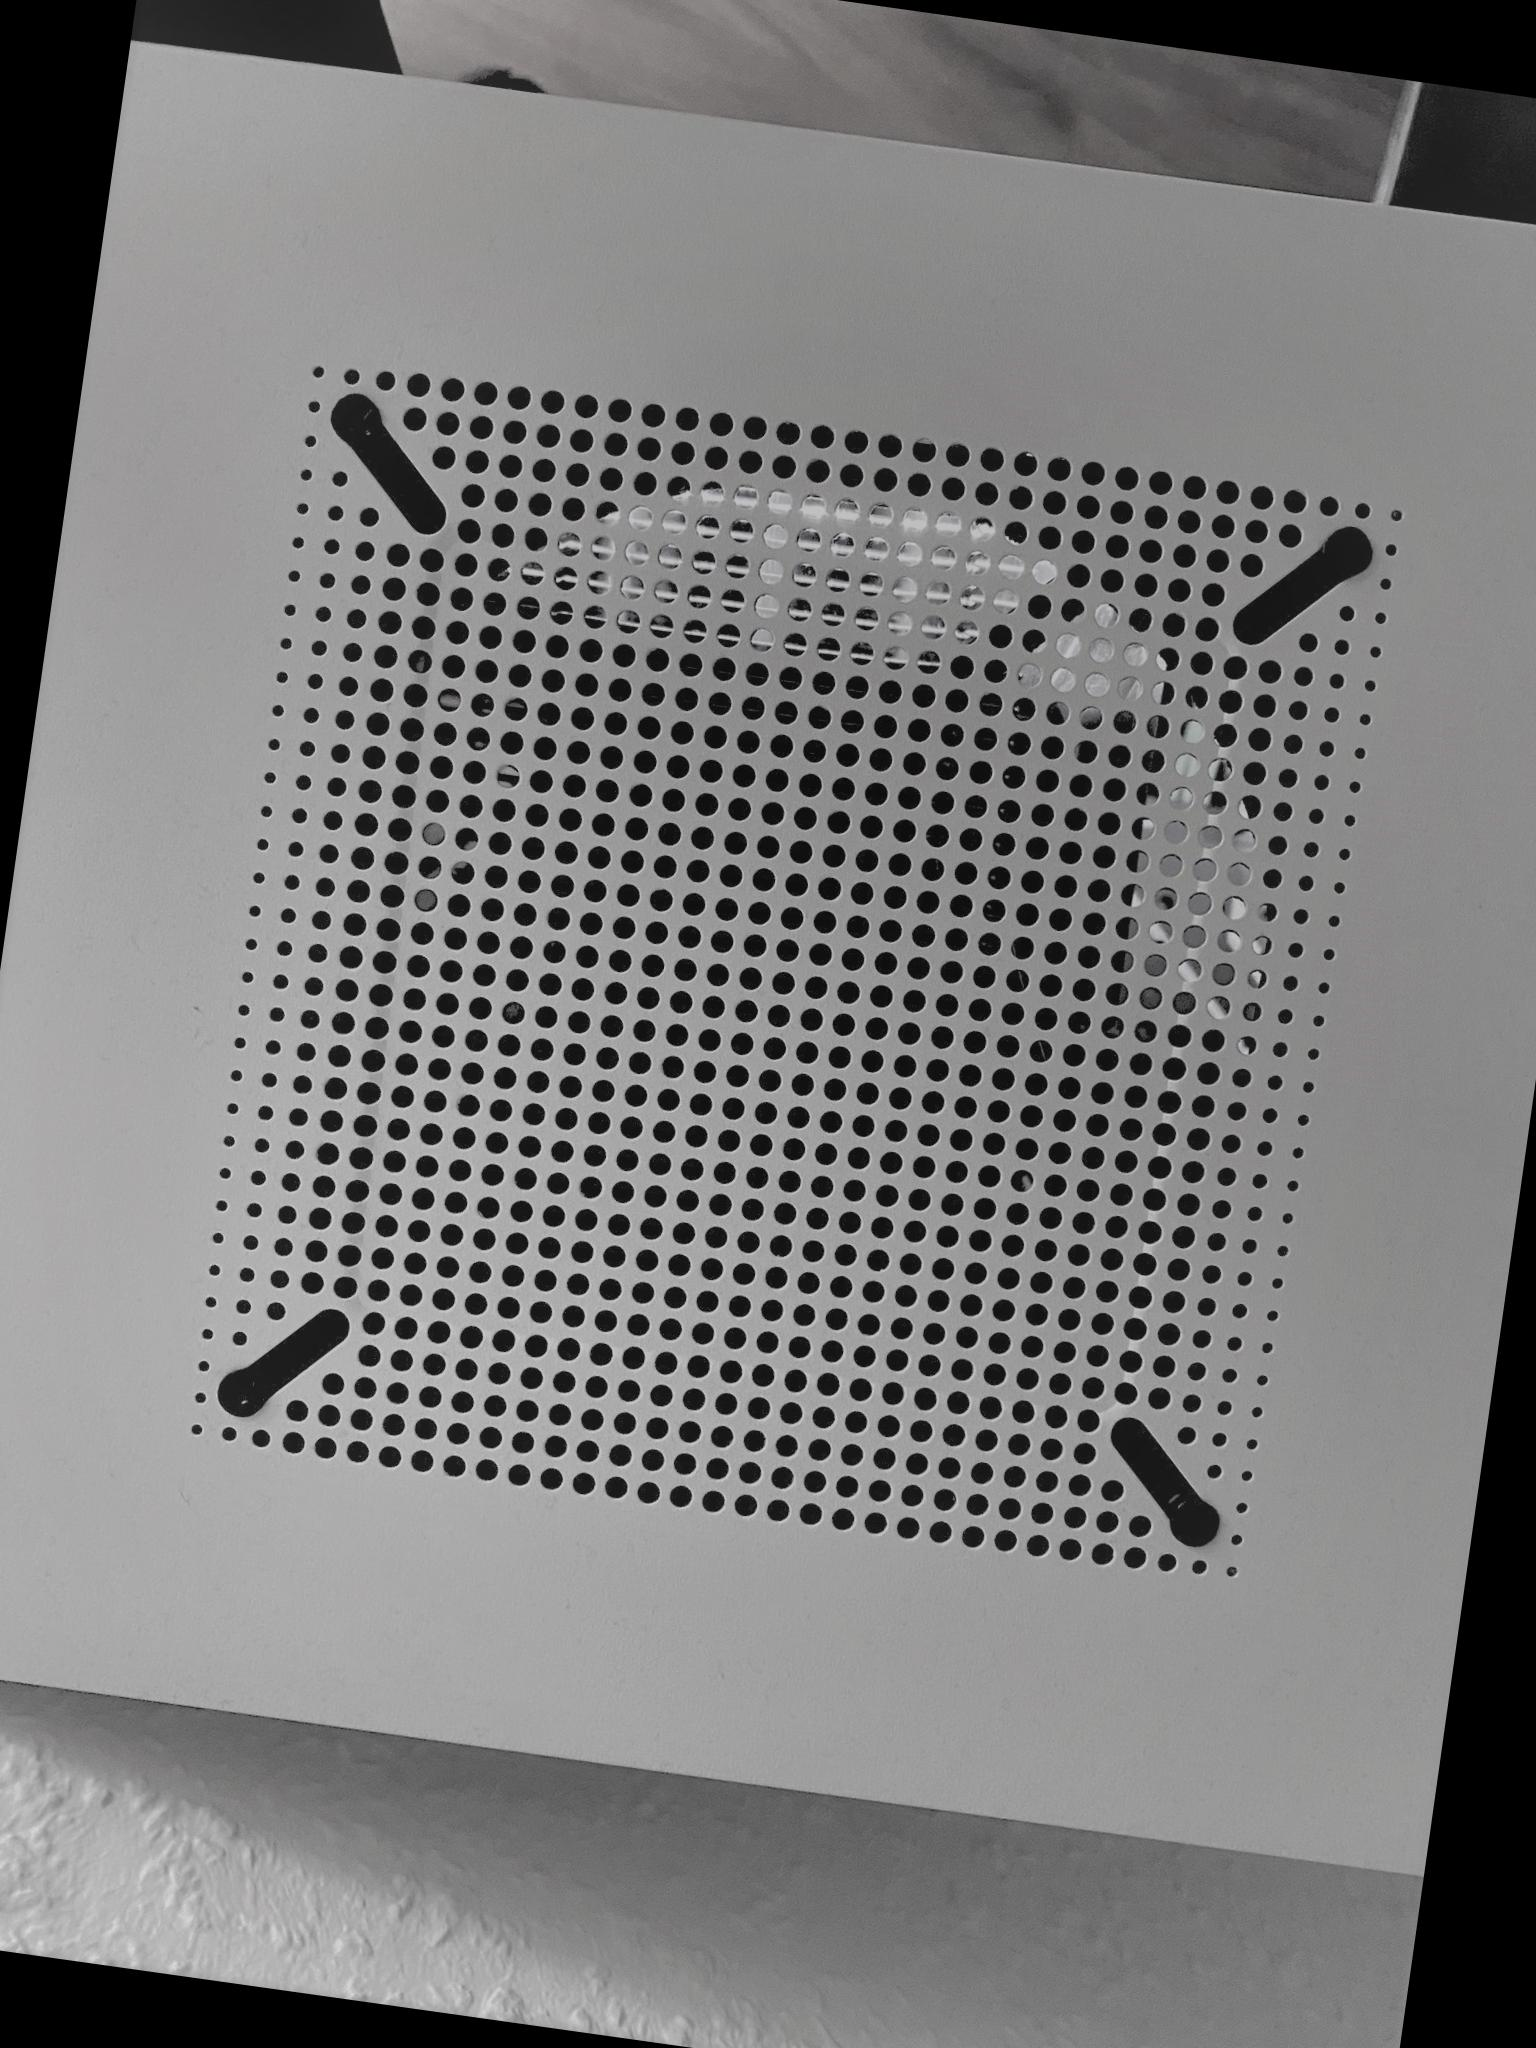PH: (324, 389, 387, 447), (211, 1364, 266, 1422), (1170, 1495, 1225, 1553)
